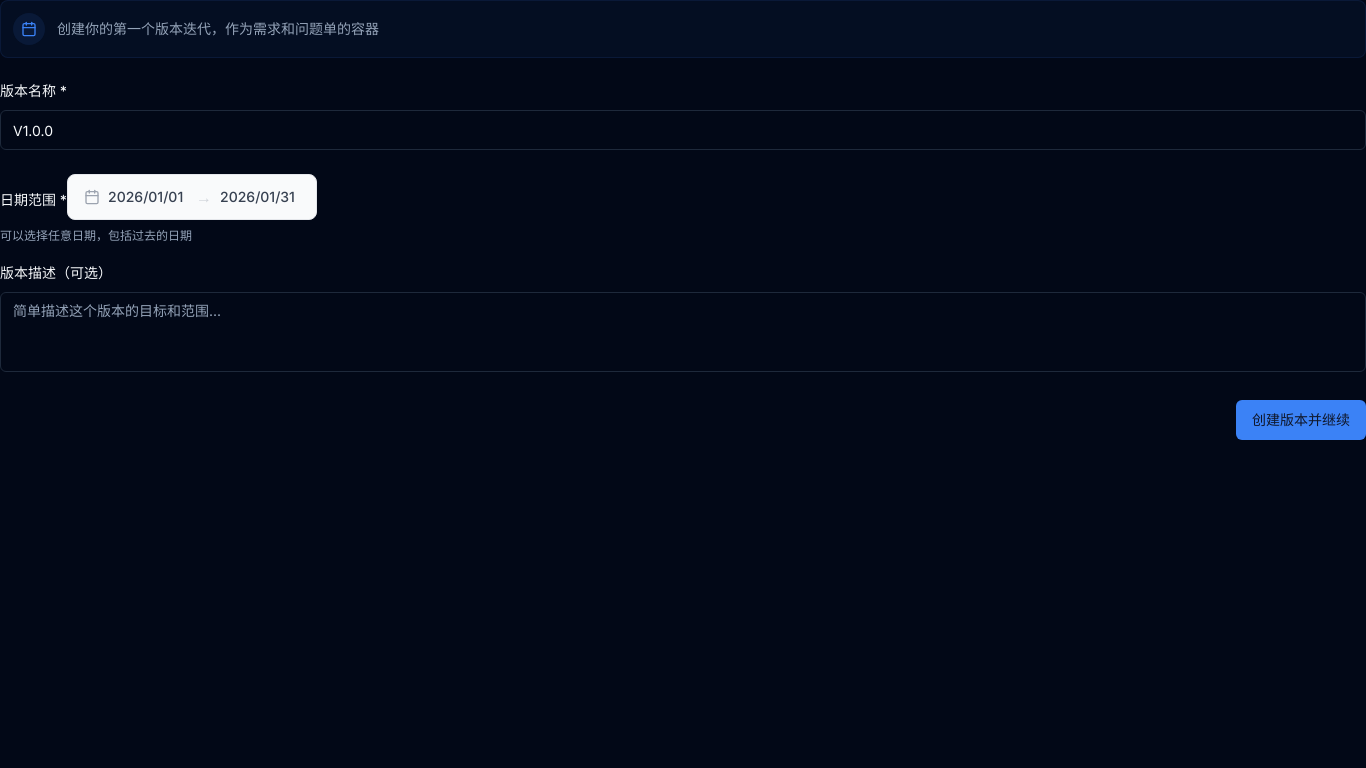
Test: CreateVersionStep › 版本已存在处理 › 版本已存在时应该显示对话框
Click the button "创建版本并继续" at (1301, 420), box [1236,400,1365,440]
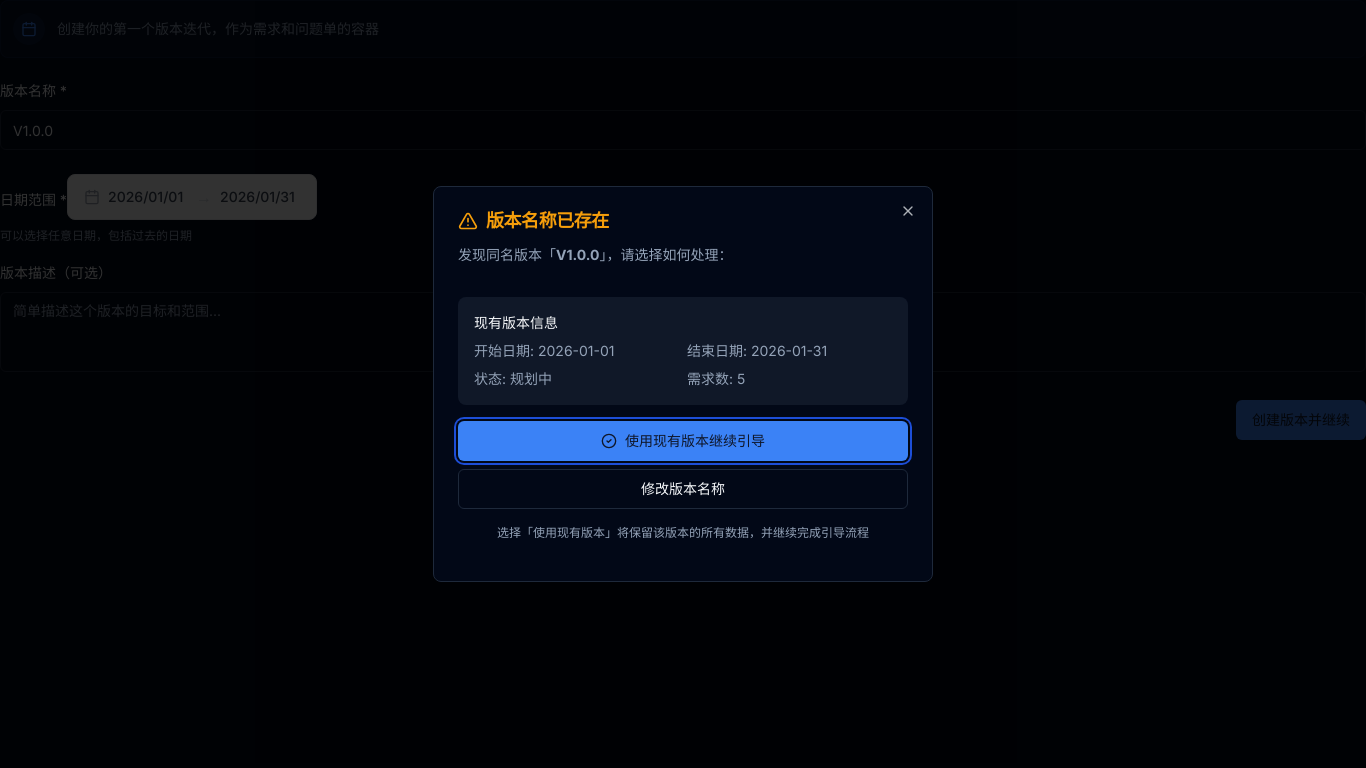
Expected: the heading "版本名称已存在" is shown, [458,210,609,231]
